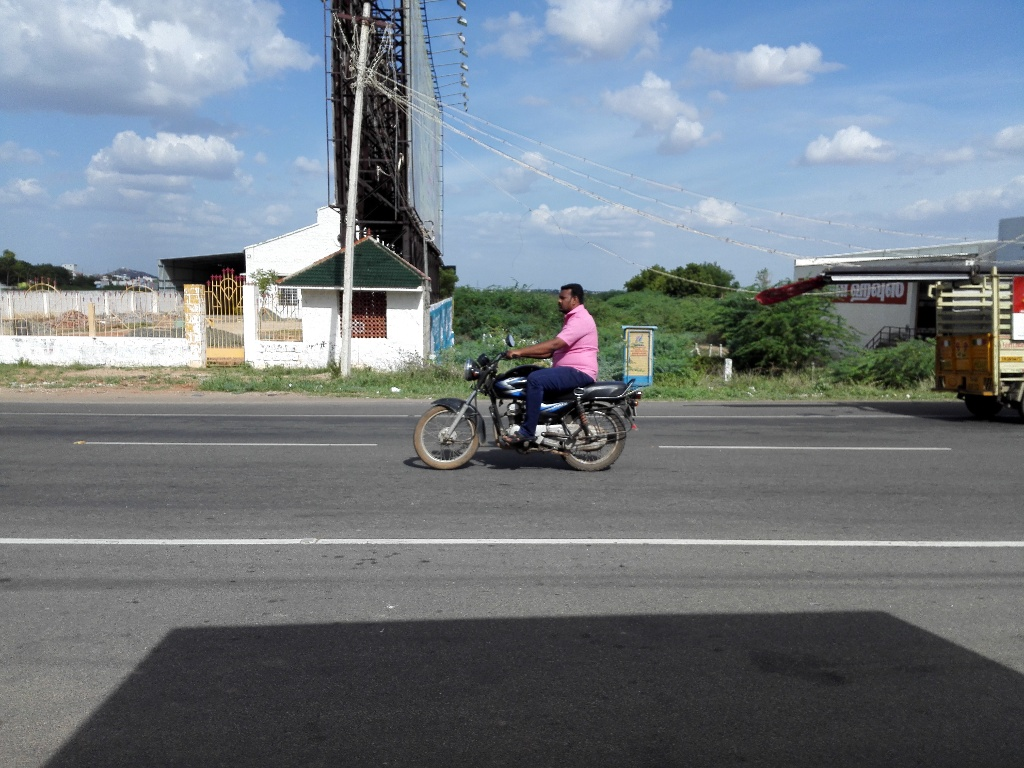biker: (399, 258, 656, 484)
nohelmet: (552, 276, 593, 327)
